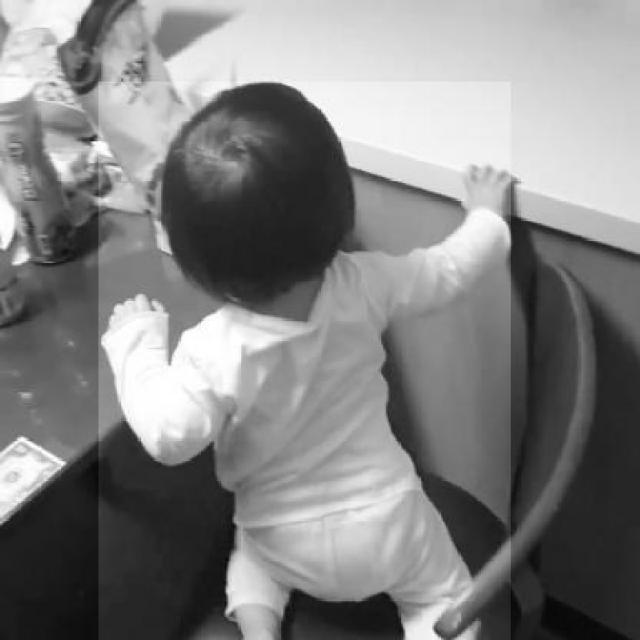child: (98, 81, 510, 640)
